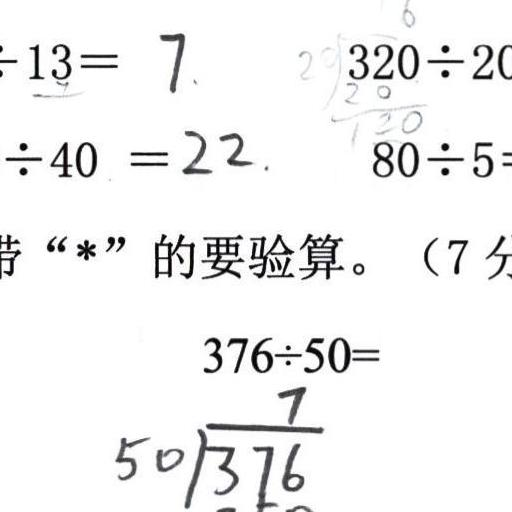ans: (181, 124, 254, 177), (153, 24, 189, 92)
